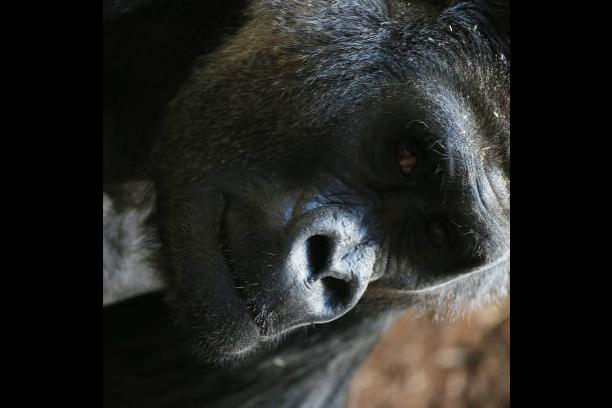gorille_Autres: (102, 0, 503, 408)
